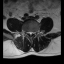CCS_normal: (30, 30, 31, 38)
LFS_normal: (33, 30, 34, 35)
LLS_normal: (31, 30, 33, 35)
RFS_stenosis: (26, 30, 28, 34)
RLS_normal: (28, 30, 30, 35)
